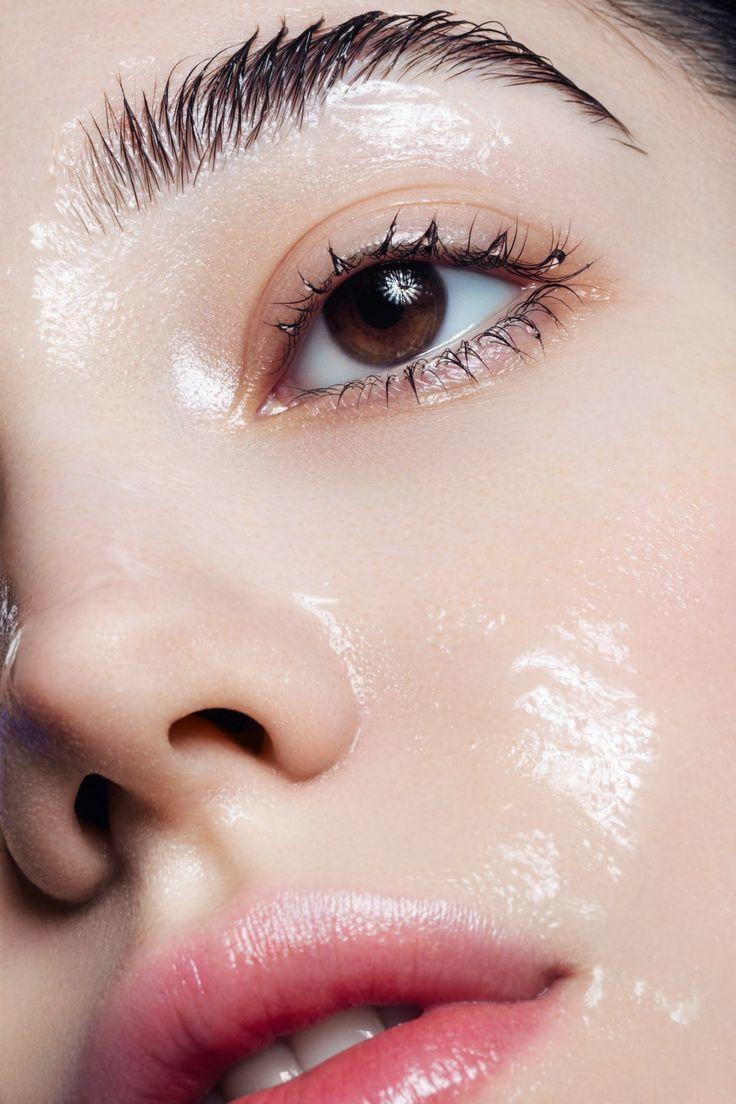Oily-Skin: (524, 641, 675, 837), (331, 74, 544, 188), (278, 588, 433, 744), (31, 174, 124, 362), (174, 321, 264, 475)
